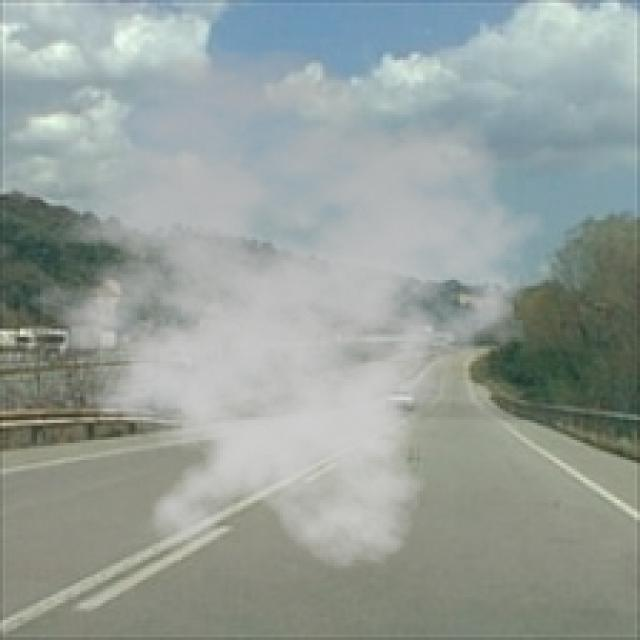Smoke: (0, 46, 560, 572)
